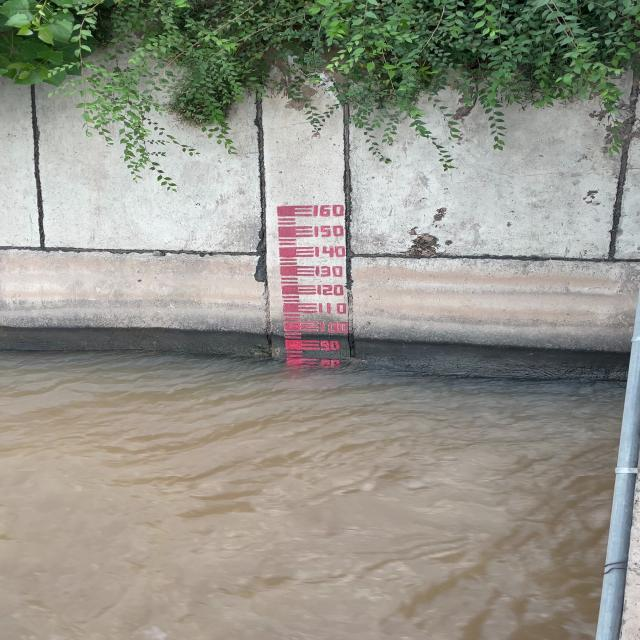ruler: (273, 202, 356, 356)
value: (311, 203, 348, 219), (316, 319, 352, 335), (311, 244, 349, 259), (311, 224, 347, 238), (311, 264, 347, 278), (314, 282, 348, 296), (316, 301, 350, 315), (318, 337, 343, 352)
